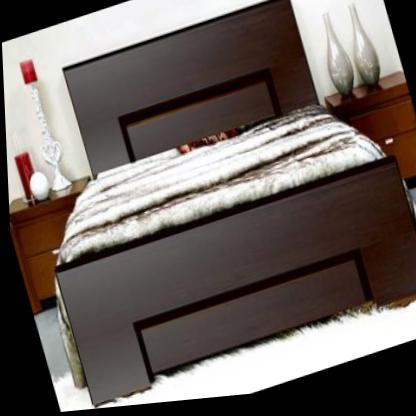Bed: (0, 0, 416, 416)
Carpet: (88, 309, 416, 410)
Nightstand: (7, 180, 87, 316), (323, 79, 416, 189)
